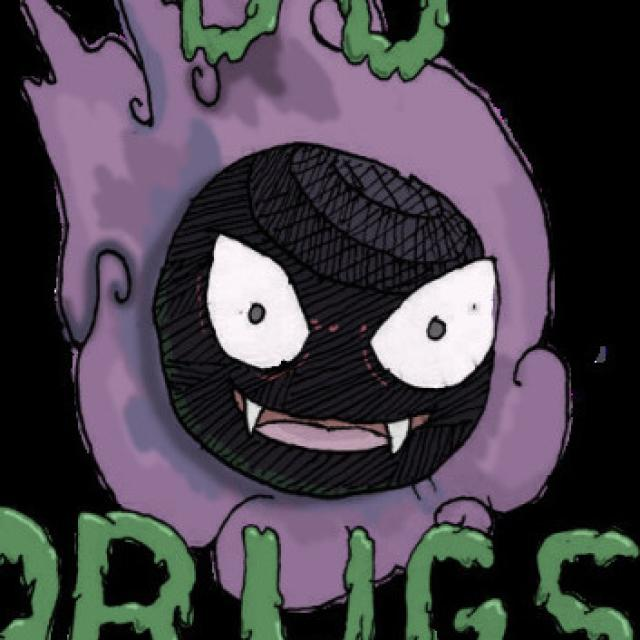Gastly: (1, 81, 584, 527)
